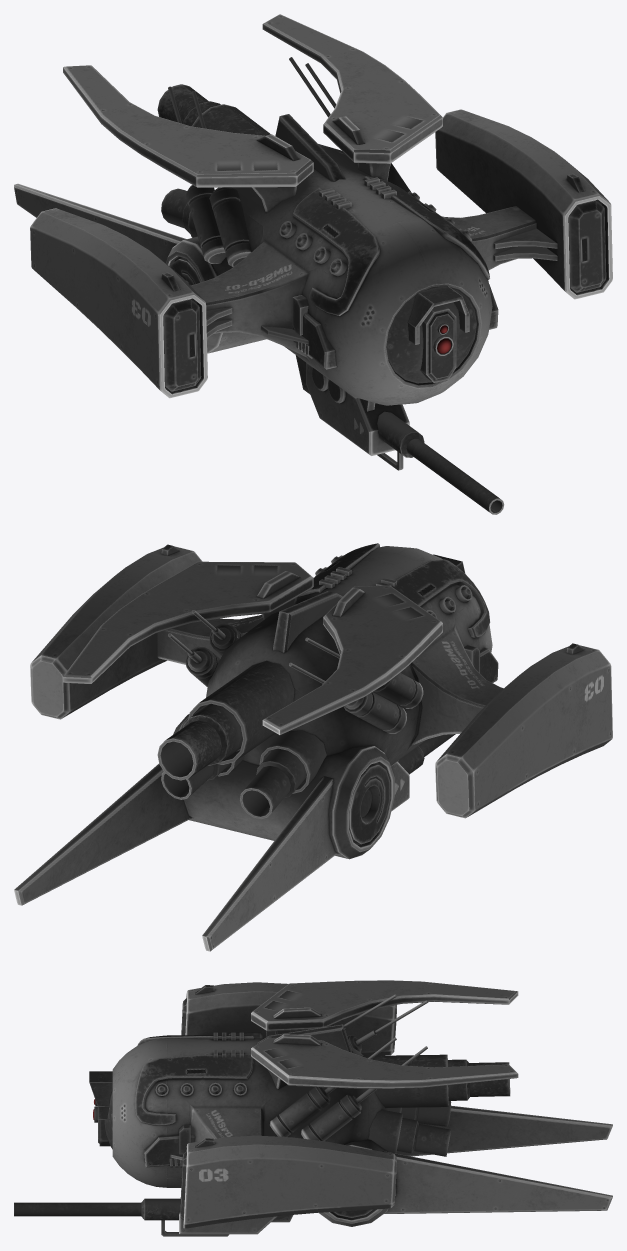
The model's file is UAV.fbx.
The picture shows the model from 3 angles, top to bottom: view 1: azimuth 30°, elevation 25°; view 2: azimuth 150°, elevation 25°; view 3: azimuth 270°, elevation 25°; orthographic projection. The views are drawn at different scales.
Parts seen in each view (by area): view 1: UAV; view 2: UAV; view 3: UAV.
Boxes of the visible parts, x1=… form: UAV: x1=14, y1=14, x2=612, y2=514; UAV: x1=14, y1=543, x2=612, y2=951; UAV: x1=14, y1=980, x2=612, y2=1236.
Bounding box in the file's own units: 35.32 × 21.13 × 52.14.
